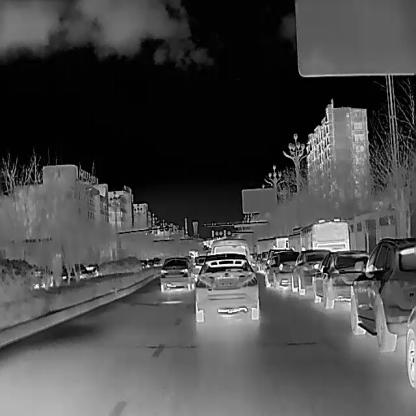bus: (288, 215, 348, 248), (256, 234, 287, 254)
car: (350, 235, 416, 352), (194, 252, 260, 322), (313, 248, 365, 308), (289, 248, 325, 292), (160, 255, 194, 293), (263, 249, 296, 286), (208, 237, 248, 256)
